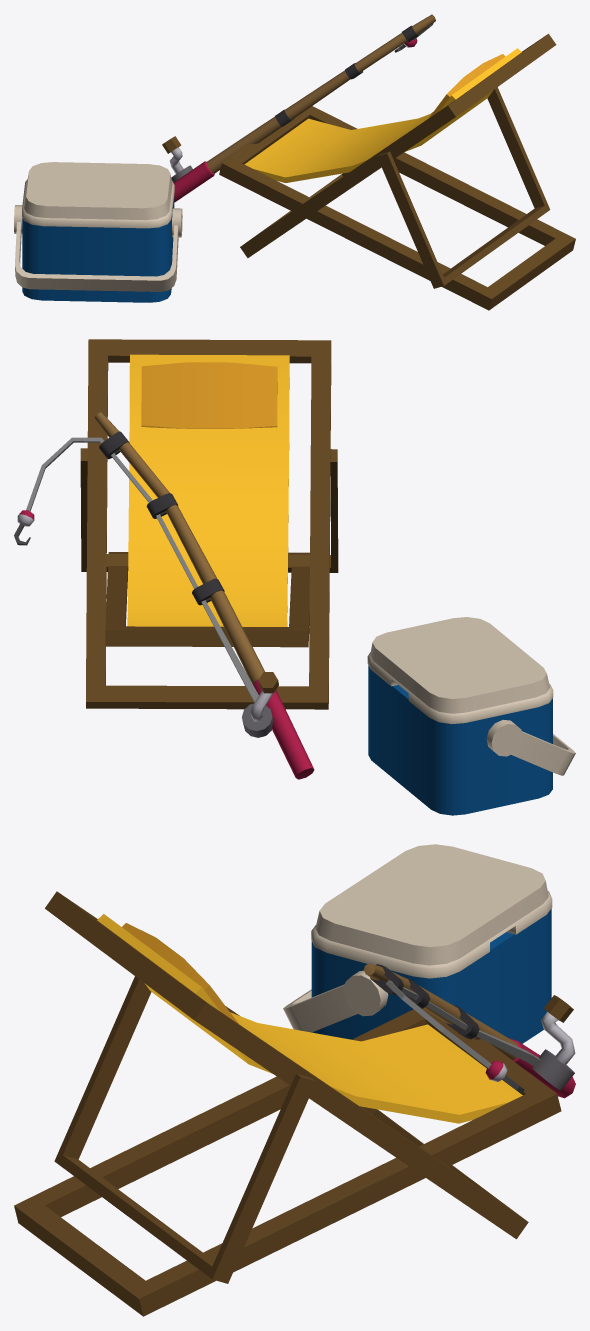
The model's file is SM_FishingStation.fbx.
3 views of the same model, one above another, from view 1: azimuth 30°, elevation 25°; view 2: azimuth 150°, elevation 25°; view 3: azimuth 270°, elevation 25° (orthographic). The views are drawn at different scales.
Parts seen in each view (by area): view 1: SM_FishingStation; view 2: SM_FishingStation; view 3: SM_FishingStation.
Part boxes in pixels (bbox=[...]): SM_FishingStation: bbox=[14, 14, 575, 310]; SM_FishingStation: bbox=[14, 339, 575, 815]; SM_FishingStation: bbox=[14, 844, 575, 1316].
Bounding box in the file's own units: 185 × 78.01 × 125.
